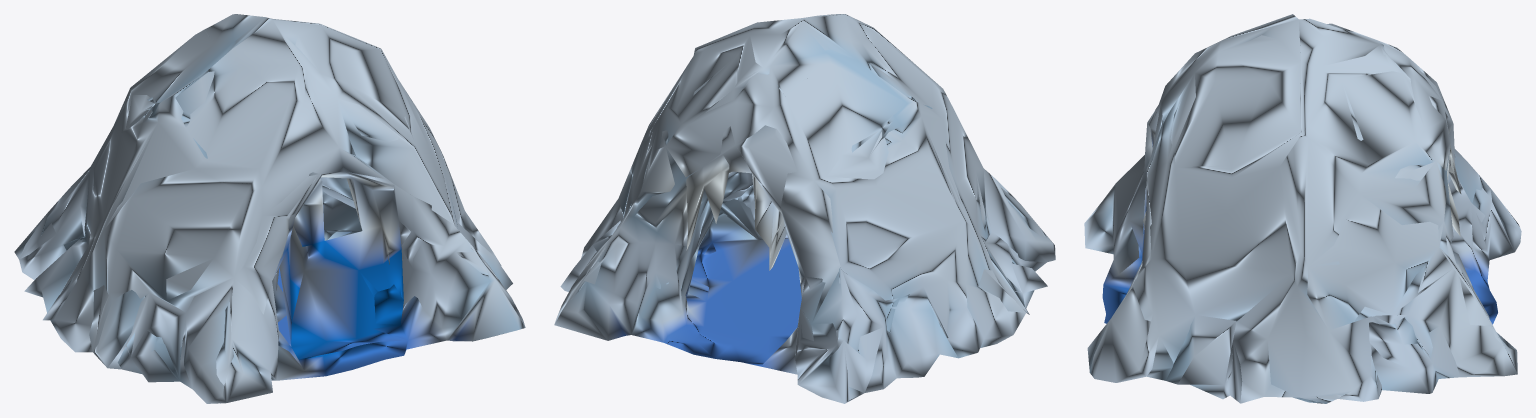
Rendered from gen3d-ice-cave-lod0.glb.
3 views of the same model, side by side, from view 1: azimuth 30°, elevation 25°; view 2: azimuth 150°, elevation 25°; view 3: azimuth 270°, elevation 25° (orthographic). The views are drawn at different scales.
Visible parts, largest first — view 1: part_0; view 2: part_0; view 3: part_0.
Boxes of the visible parts, x1,y1,x2,y2 form: part_0: (14, 14, 525, 403); part_0: (554, 14, 1055, 403); part_0: (1084, 14, 1521, 403).
Size of the model in its own units: 1.52 by 0.992 by 1.37.
